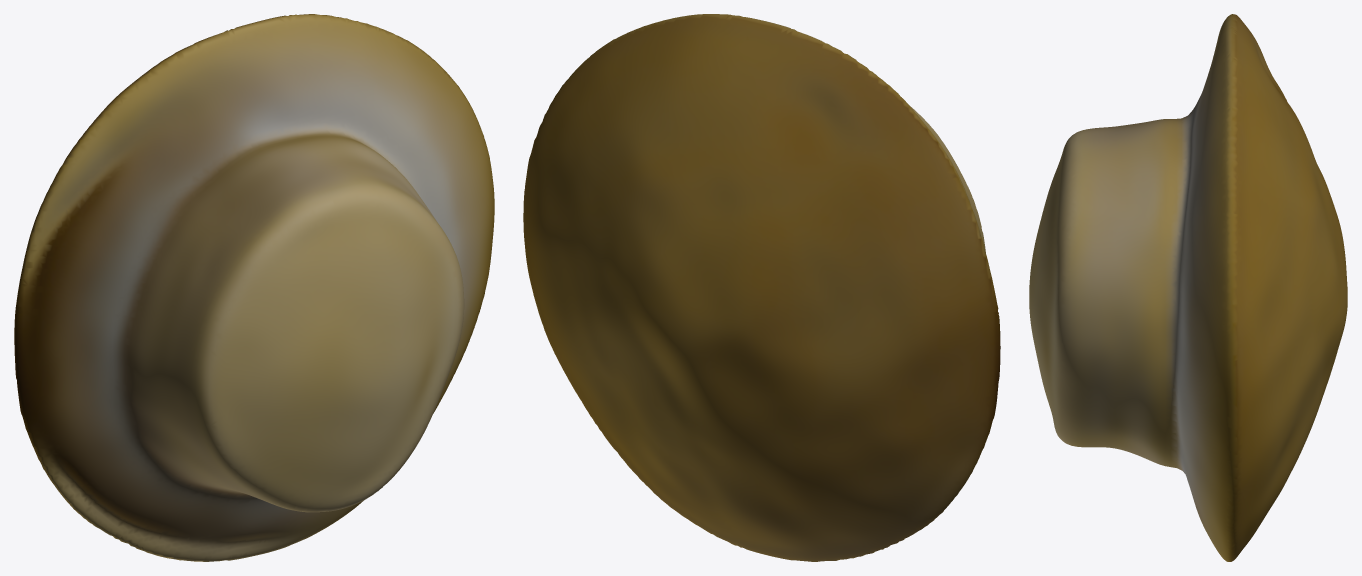
The model's file is hat.glb.
The picture shows the model from 3 angles, left to right: view 1: azimuth 30°, elevation 25°; view 2: azimuth 150°, elevation 25°; view 3: azimuth 270°, elevation 25°; orthographic projection. The views are drawn at different scales.
Size of the model in its own units: 0.9362 by 0.9987 by 0.5768.
